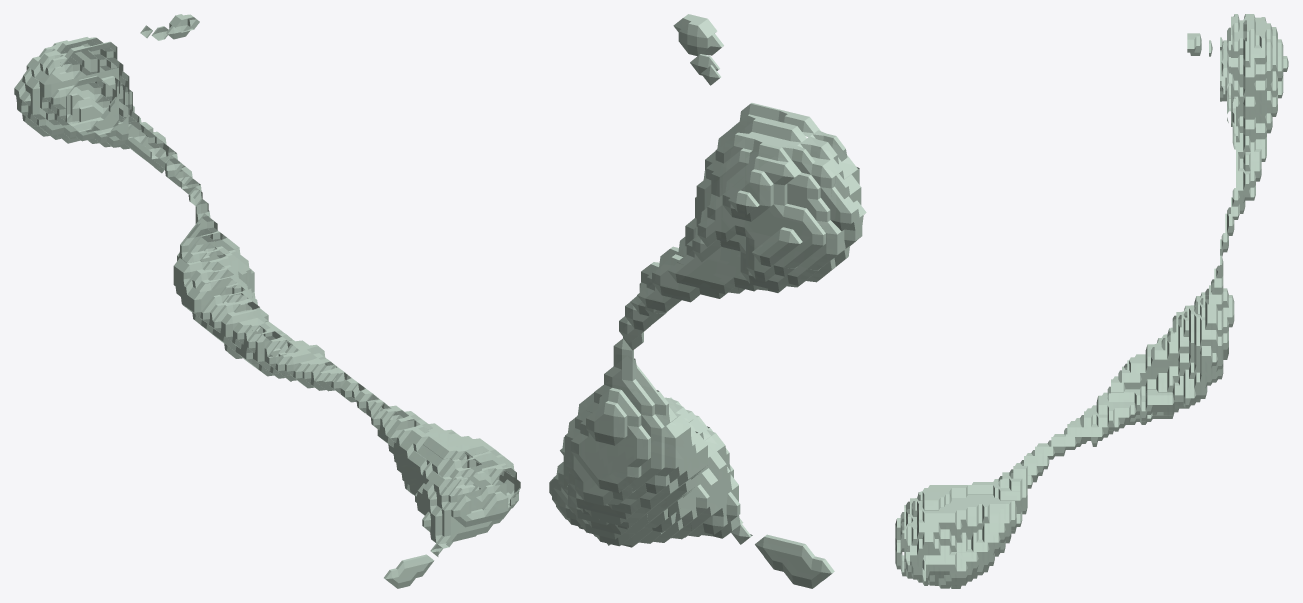
Rendered from SVV_ASGL.gltf.
The picture shows the model from 3 angles, left to right: view 1: azimuth 30°, elevation 25°; view 2: azimuth 150°, elevation 25°; view 3: azimuth 270°, elevation 25°; orthographic projection. The views are drawn at different scales.
Parts seen in each view (by area): view 1: ASGL; view 2: ASGL; view 3: ASGL.
Boxes of the visible parts, x1,y1,x2,y2 form: ASGL: [14, 14, 520, 588]; ASGL: [549, 14, 866, 588]; ASGL: [895, 14, 1288, 588].
Bounding box in the file's own units: 28169 × 38416 × 27794.
